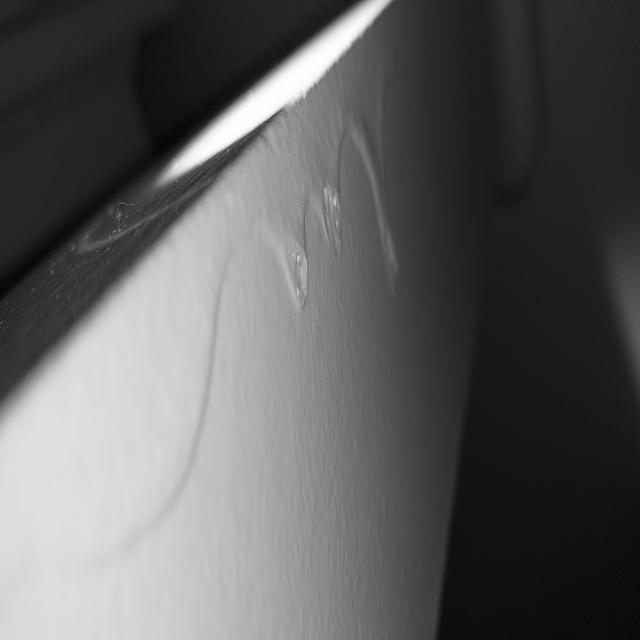paint drips: (28, 164, 238, 590), (242, 20, 405, 347)
